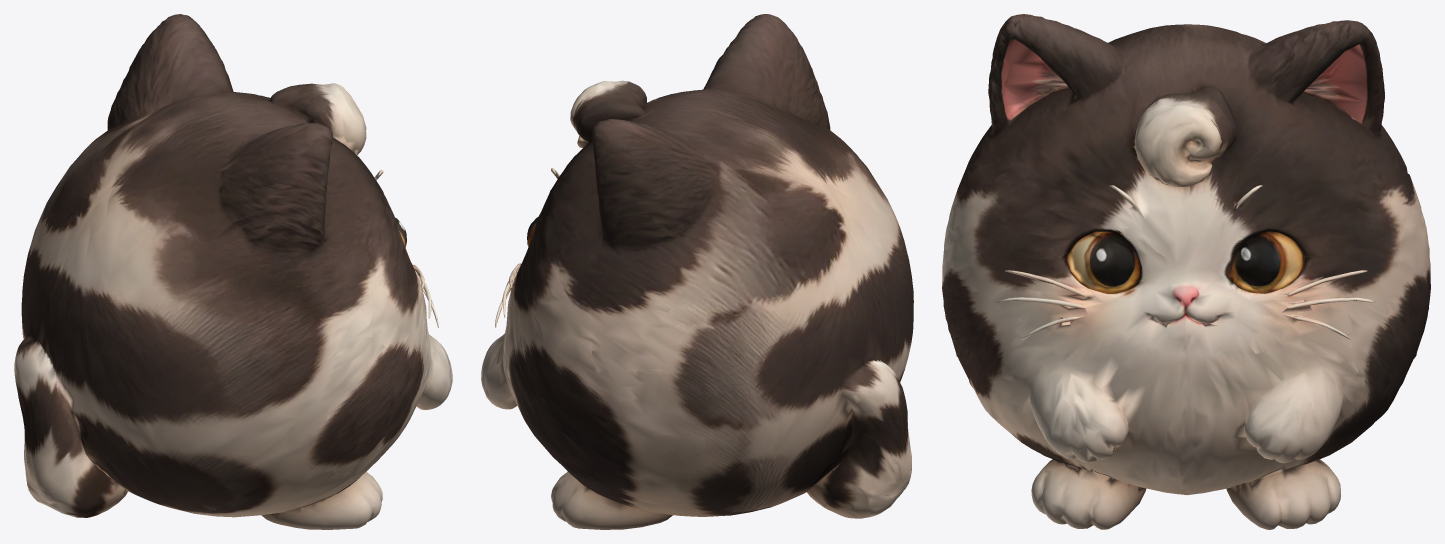
Rendered from CAT_L02.glb.
3 views of the same model, side by side, from view 1: azimuth 30°, elevation 25°; view 2: azimuth 150°, elevation 25°; view 3: azimuth 270°, elevation 25° (orthographic). The views are drawn at different scales.
Parts seen in each view (by area): view 1: tripo_node_f321fd45-b846-4a9a-af96-98089cc46873; view 2: tripo_node_f321fd45-b846-4a9a-af96-98089cc46873; view 3: tripo_node_f321fd45-b846-4a9a-af96-98089cc46873.
Part boxes in pixels (<box>): tripo_node_f321fd45-b846-4a9a-af96-98089cc46873: <box>14,14,452,529</box>; tripo_node_f321fd45-b846-4a9a-af96-98089cc46873: <box>481,14,913,529</box>; tripo_node_f321fd45-b846-4a9a-af96-98089cc46873: <box>942,14,1430,529</box>.
Bounding box in the file's own units: 0.9059 × 0.98 × 0.9229.
1 material, 1 textured.
